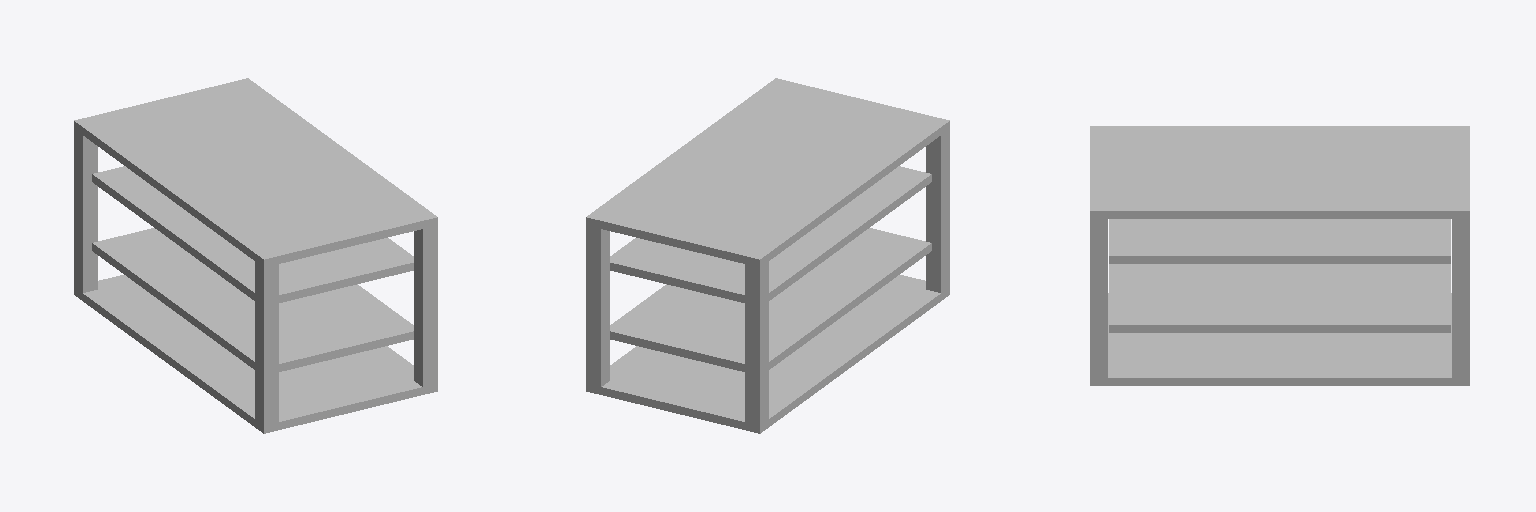
File: shelf.obj
3 views of the same model, side by side, from view 1: azimuth 30°, elevation 25°; view 2: azimuth 150°, elevation 25°; view 3: azimuth 270°, elevation 25° (orthographic).
Parts seen in each view (by area): view 1: Cube.001, Cube.002, Cube, Cube.003, Cube.006, Cube.007, Cube.005; view 2: Cube.001, Cube.002, Cube, Cube.003, Cube.005, Cube.004, Cube.006; view 3: Cube.001, Cube.002, Cube, Cube.003, Cube.004, Cube.007.
Part boxes in pixels (left/top/right/bottom): Cube.001: left=74, top=78, right=437, bottom=267; Cube.002: left=92, top=228, right=413, bottom=371; Cube: left=74, top=275, right=437, bottom=433; Cube.003: left=92, top=166, right=413, bottom=302; Cube.006: left=255, top=262, right=278, bottom=425; Cube.007: left=414, top=225, right=437, bottom=386; Cube.005: left=74, top=129, right=97, bottom=292; Cube.001: left=586, top=78, right=949, bottom=267; Cube.002: left=610, top=228, right=931, bottom=371; Cube: left=586, top=275, right=949, bottom=433; Cube.003: left=610, top=166, right=931, bottom=302; Cube.005: left=745, top=262, right=768, bottom=425; Cube.004: left=586, top=225, right=609, bottom=386; Cube.006: left=926, top=129, right=949, bottom=292; Cube.001: left=1090, top=126, right=1469, bottom=218; Cube.002: left=1109, top=264, right=1450, bottom=332; Cube: left=1090, top=293, right=1469, bottom=385; Cube.003: left=1109, top=219, right=1450, bottom=263; Cube.004: left=1452, top=219, right=1469, bottom=377; Cube.007: left=1090, top=219, right=1107, bottom=377.
Size of the model in its own units: 4.5 by 4.3 by 8.5.